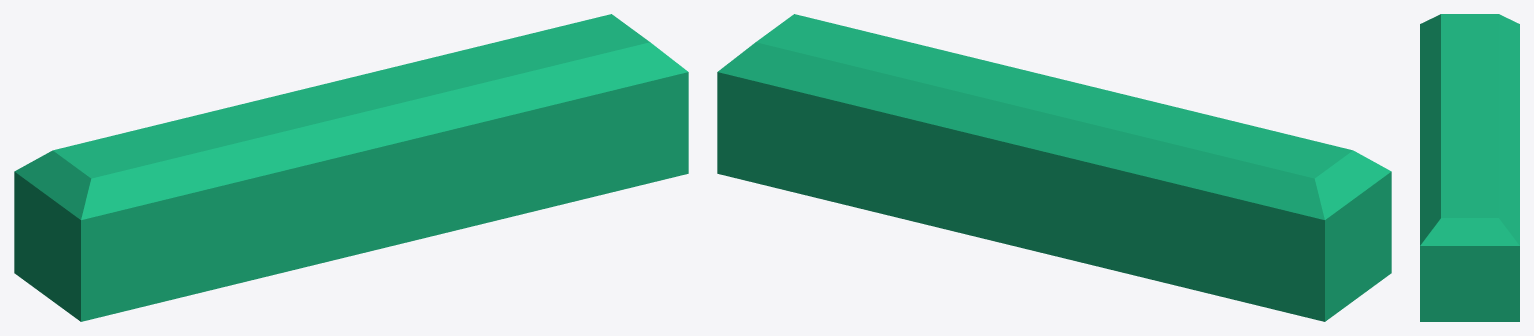
The model's file is hedge.fbx.
3 renders of one model, left to right at view 1: azimuth 30°, elevation 25°; view 2: azimuth 150°, elevation 25°; view 3: azimuth 270°, elevation 25°, orthographic. The views are drawn at different scales.
Visible parts, largest first — view 1: hedge; view 2: hedge; view 3: hedge.
Boxes of the visible parts, x1,y1,x2,y2 form: hedge: (14,14,688,321); hedge: (717,14,1391,321); hedge: (1420,14,1519,321).
Bounding box in the file's own units: 10 × 2 × 1.9.
